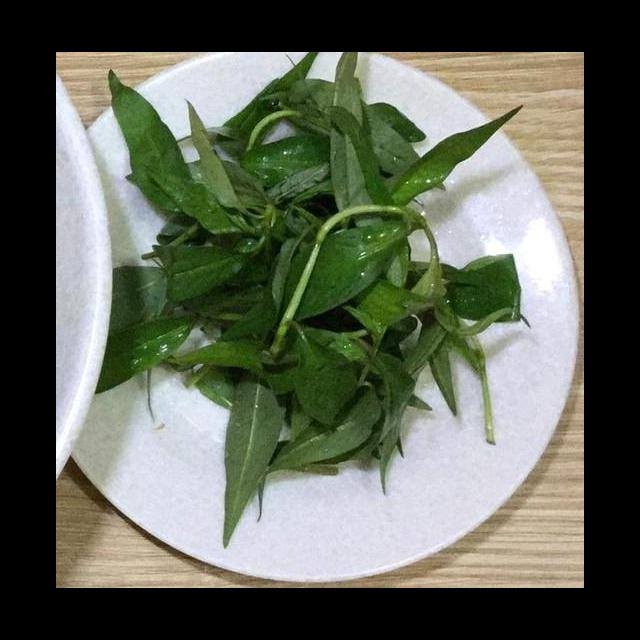rau ram: (90, 53, 539, 556)
